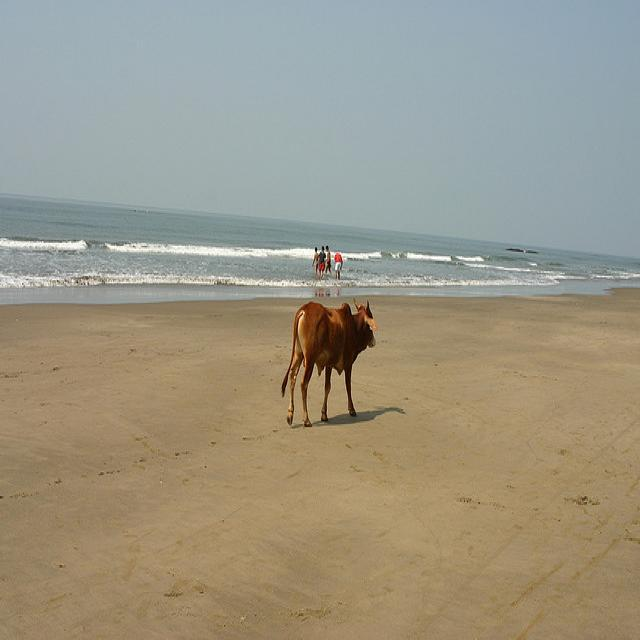cow: (280, 294, 377, 426)
